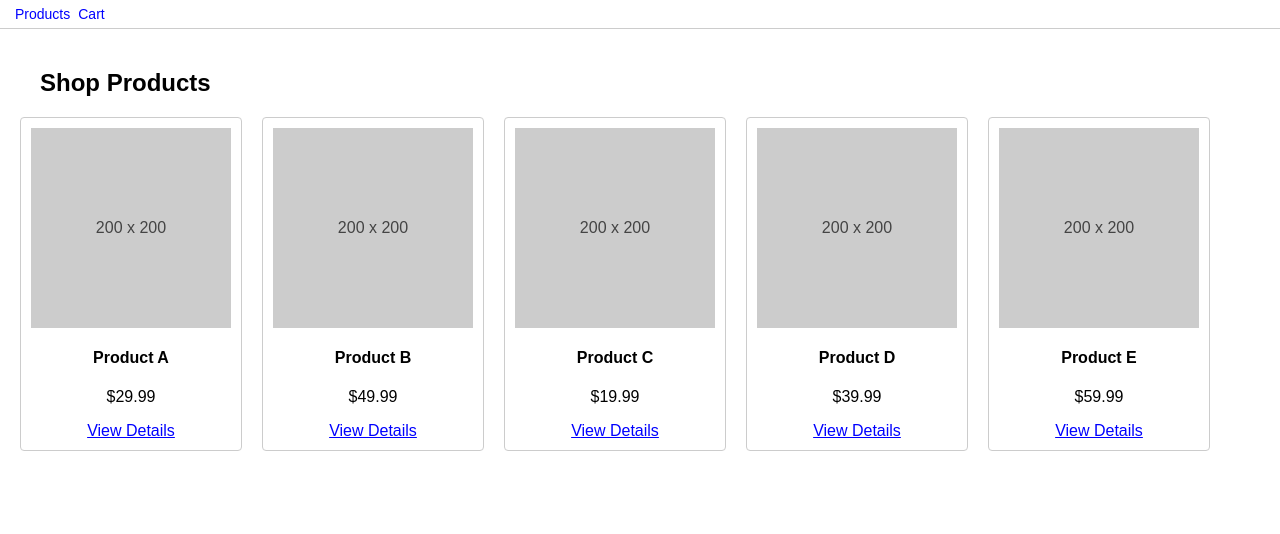
Test: Verify that clicking on a product in the product list takes you to the product details page
Check: the element with test id "product-1" is shown, box [20,117,242,451]
Note: Click on product A
What coordinates should you click on to do the following:
click the link "View Details" below "29.99"
I would click on:
 (131, 431)
Its box is [87,422,175,439].
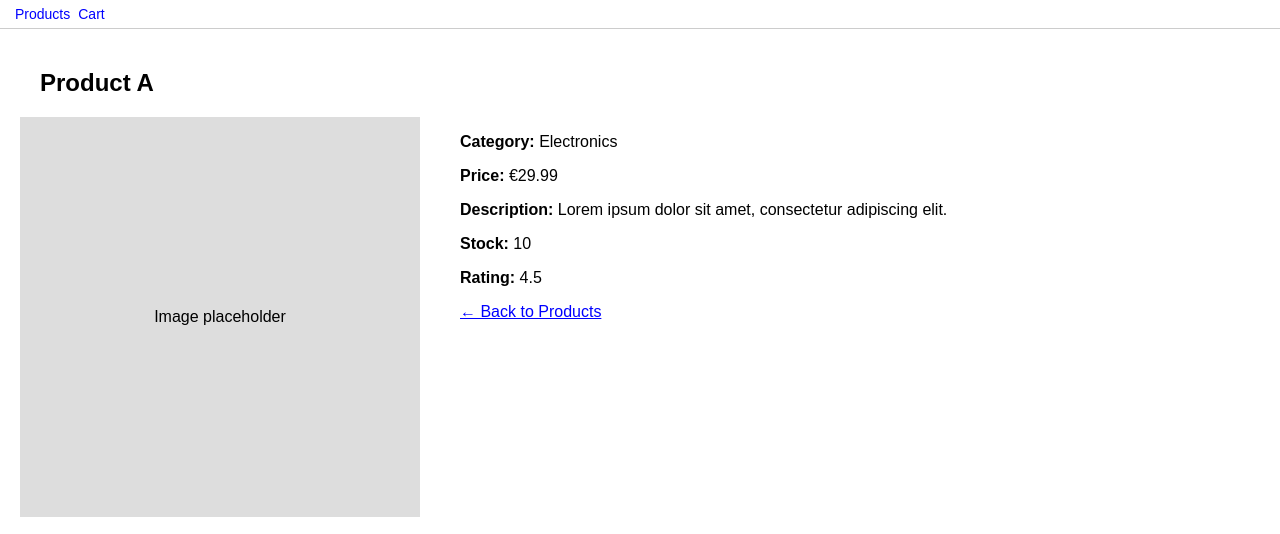
Check: the heading "Shop Products" is gone
Check: the heading "Product A" is shown, box [40,69,154,96]
Check: the text "Category: Electronics" is shown, box [460,133,617,150]
